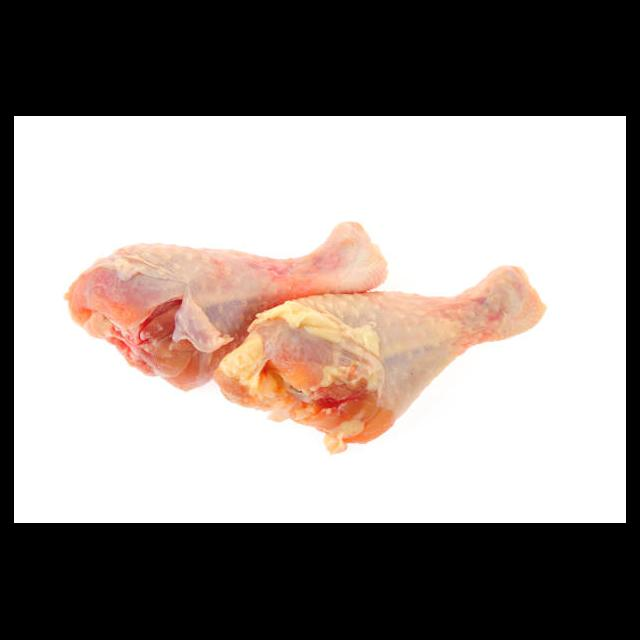chicken: (62, 220, 549, 454)
